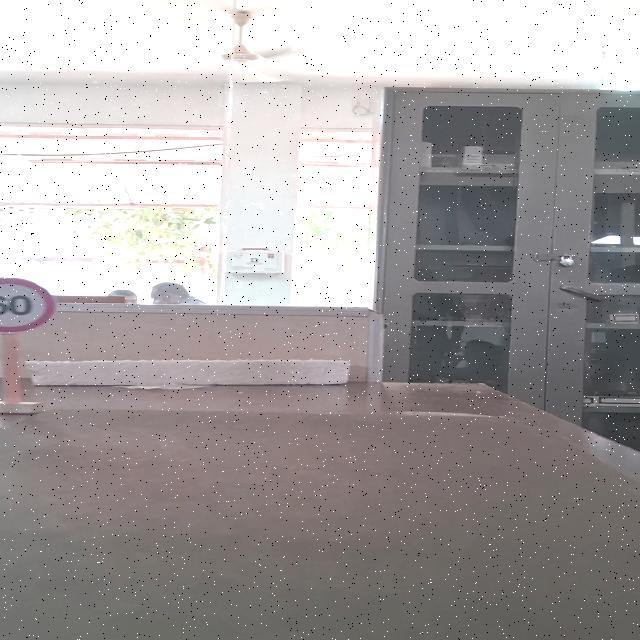Speed60: (1, 276, 56, 336)
